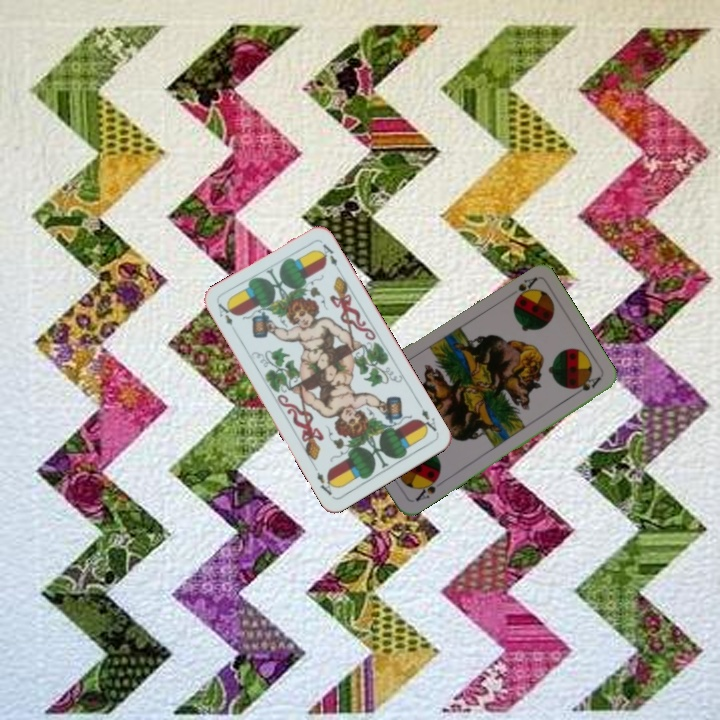EA: (414, 399, 440, 436), (214, 299, 235, 328)
SA: (411, 473, 441, 504), (510, 273, 540, 303)
